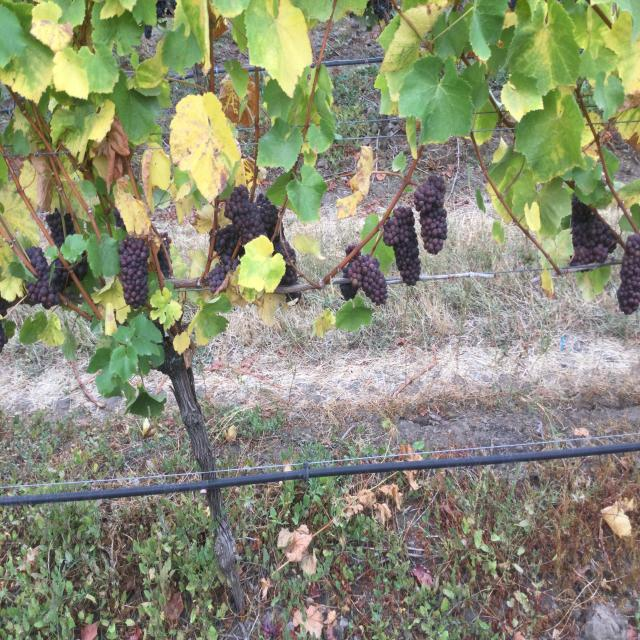grapes: (570, 195, 616, 265), (382, 207, 421, 285), (414, 175, 448, 255), (26, 247, 69, 308), (340, 252, 388, 305), (225, 185, 265, 245), (119, 237, 150, 308), (618, 233, 640, 315), (206, 253, 240, 293), (46, 208, 75, 248), (255, 193, 279, 238), (214, 223, 239, 257), (72, 253, 88, 280)
